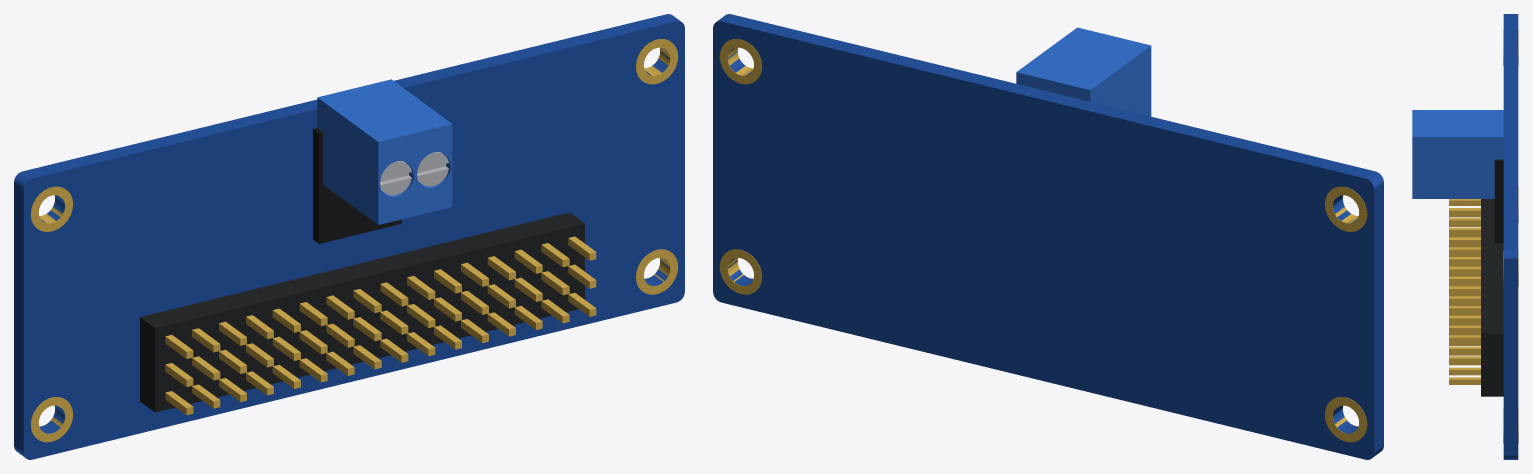
Rendered from pca9685-driver.glb.
The picture shows the model from 3 angles, left to right: view 1: azimuth 30°, elevation 25°; view 2: azimuth 150°, elevation 25°; view 3: azimuth 270°, elevation 25°; orthographic projection. The views are drawn at different scales.
Visible parts, largest first — view 1: board, terminal_18, header_2, pca9685, header_9, header_8, header_16, header_13, header_6, header_14, header_15, header_7 (+28 smaller); view 2: board, terminal_18, hole_4, hole_2, hole_3, hole_1; view 3: terminal_18, board, header_17, header_16_pins, pca9685, header_17_pins, header_7_pins, header_15_pins, header_6_pins, header_8_pins, header_10_pins, header_11_pins (+20 smaller).
Boxes of the visible parts, bbox=[...] form: board: bbox=[14, 14, 684, 459]; terminal_18: bbox=[317, 79, 452, 224]; header_2: bbox=[140, 310, 181, 412]; pca9685: bbox=[313, 128, 401, 243]; header_9: bbox=[328, 264, 370, 364]; header_8: bbox=[301, 271, 343, 371]; header_16: bbox=[516, 219, 558, 318]; header_13: bbox=[436, 238, 477, 338]; header_6: bbox=[248, 284, 289, 384]; header_14: bbox=[462, 232, 504, 331]; header_15: bbox=[490, 225, 531, 325]; header_7: bbox=[275, 278, 316, 377]; board: bbox=[713, 14, 1383, 459]; terminal_18: bbox=[1016, 27, 1151, 116]; hole_4: bbox=[719, 39, 762, 84]; hole_2: bbox=[719, 249, 762, 294]; hole_3: bbox=[1325, 186, 1367, 231]; hole_1: bbox=[1325, 397, 1367, 442]; terminal_18: bbox=[1412, 110, 1503, 198]; board: bbox=[1503, 14, 1518, 459]; header_17: bbox=[1481, 323, 1503, 396]; header_16_pins: bbox=[1449, 325, 1480, 375]; pca9685: bbox=[1494, 159, 1503, 243]; header_17_pins: bbox=[1449, 335, 1480, 384]; header_7_pins: bbox=[1449, 237, 1480, 286]; header_15_pins: bbox=[1449, 315, 1480, 365]; header_6_pins: bbox=[1449, 227, 1480, 276]; header_8_pins: bbox=[1449, 247, 1480, 296]; header_10_pins: bbox=[1449, 266, 1480, 315]; header_11_pins: bbox=[1449, 276, 1480, 325].
Size of the model in its own units: 62.5 by 26.45 by 11.63.
